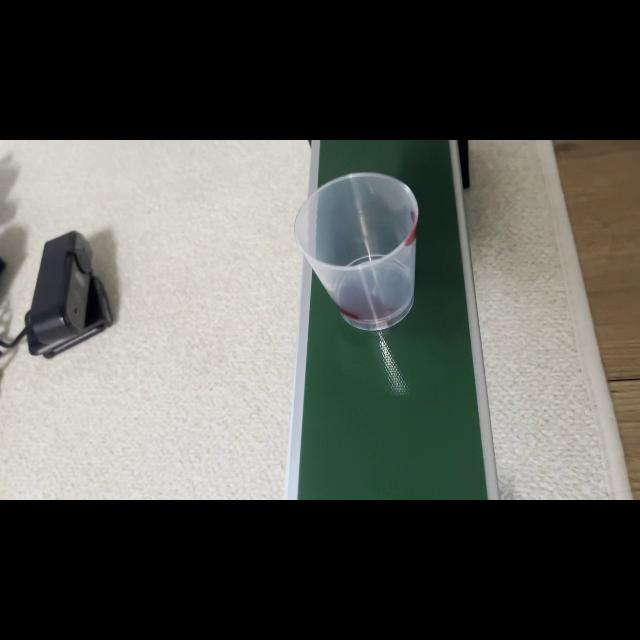dirty: (297, 172, 419, 331)
